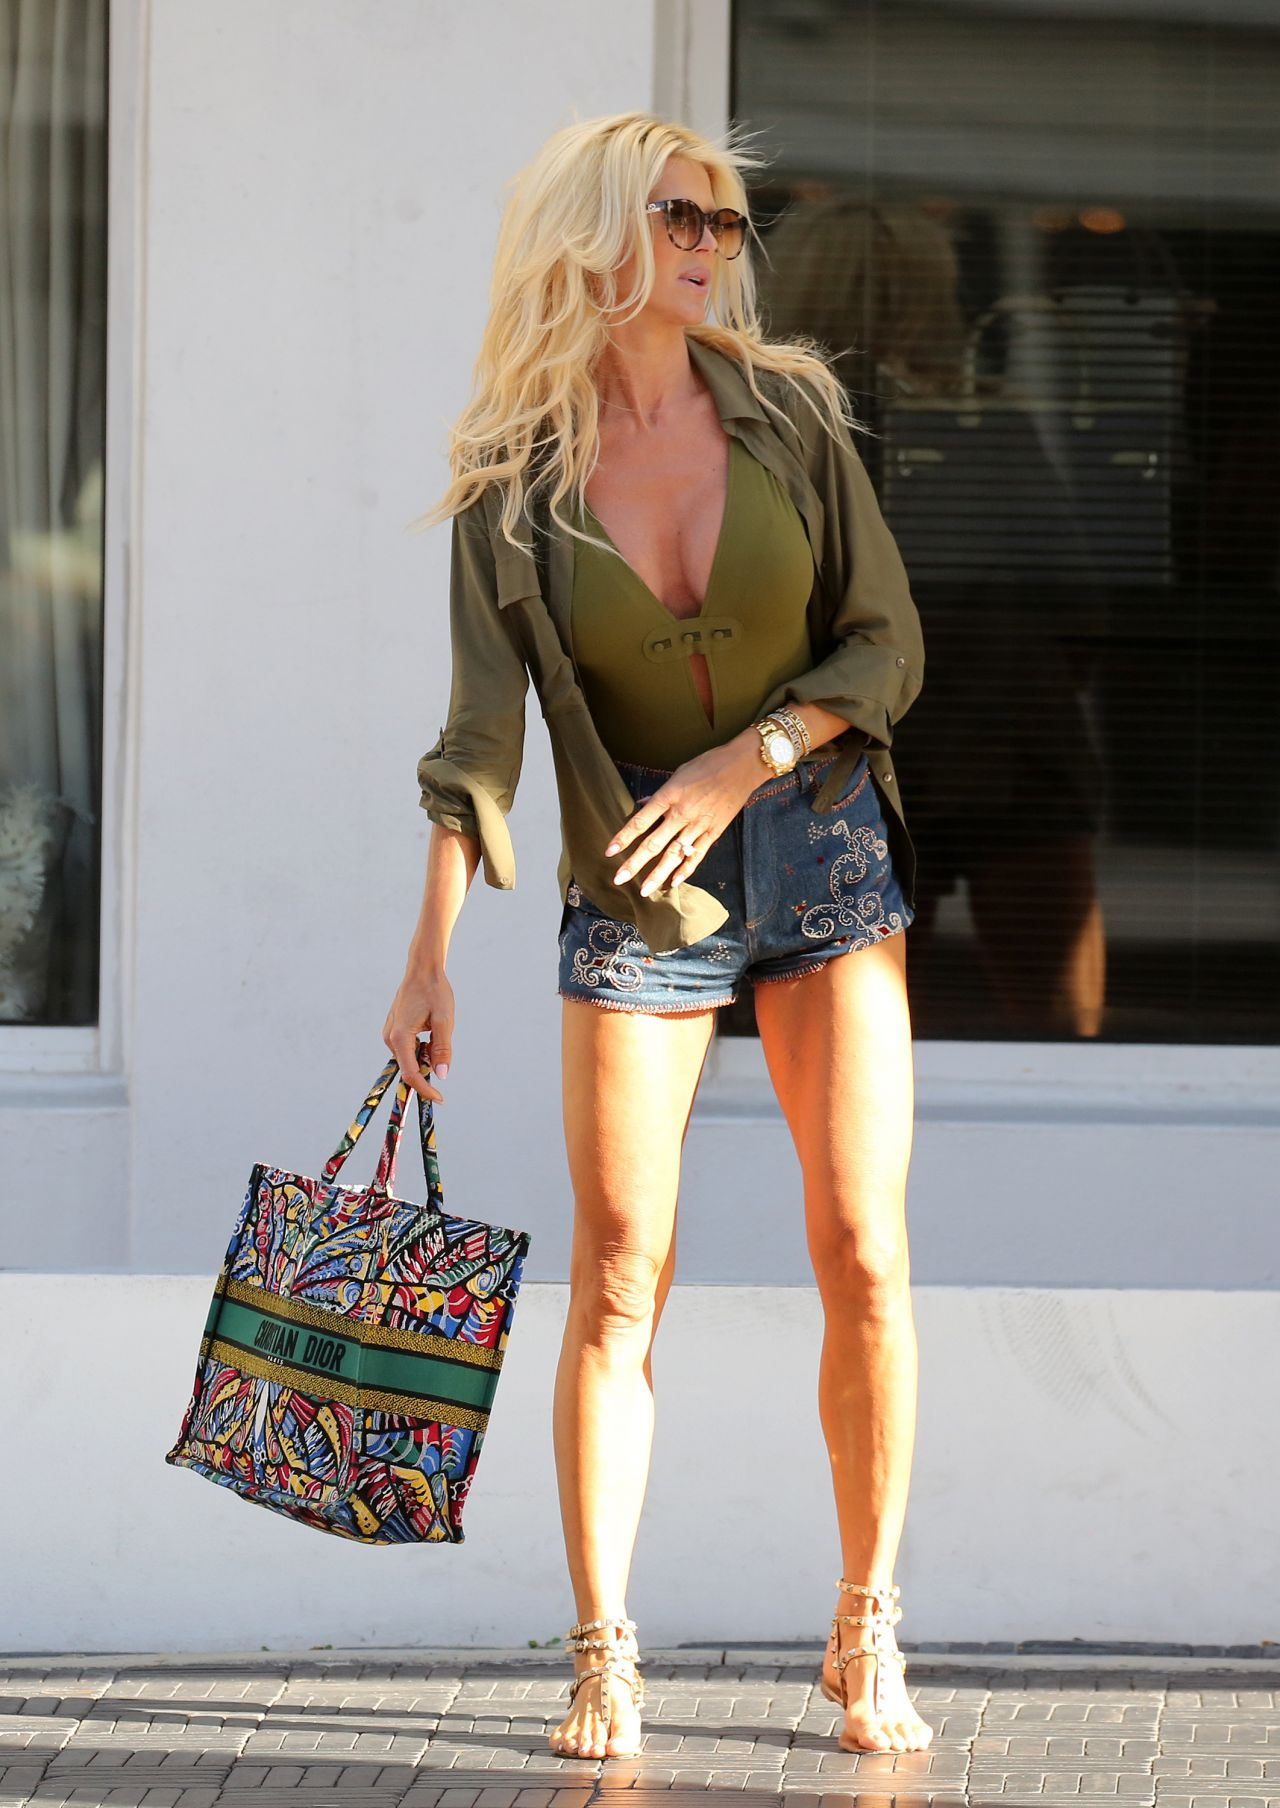Person: (373, 104, 973, 1765)
